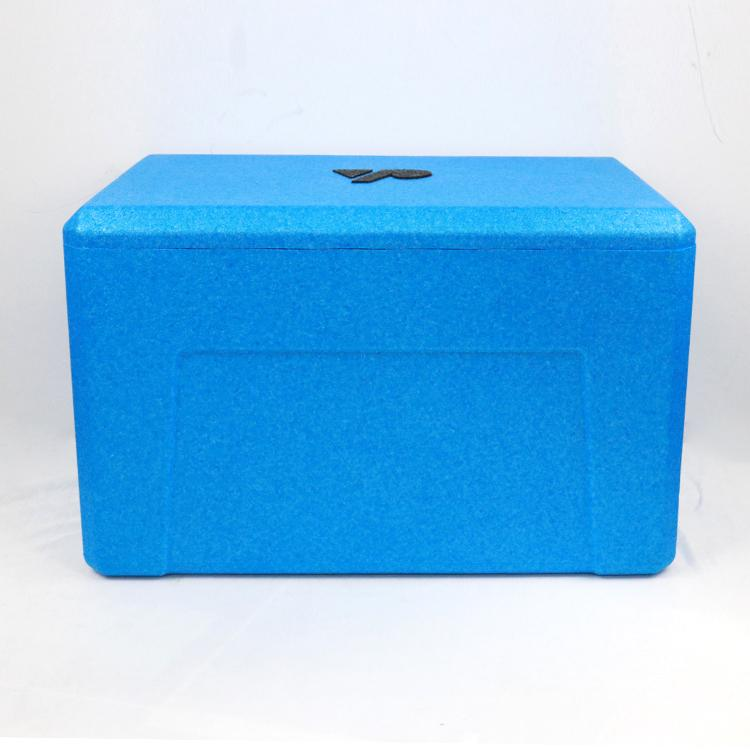Parcel: (63, 156, 694, 574)
